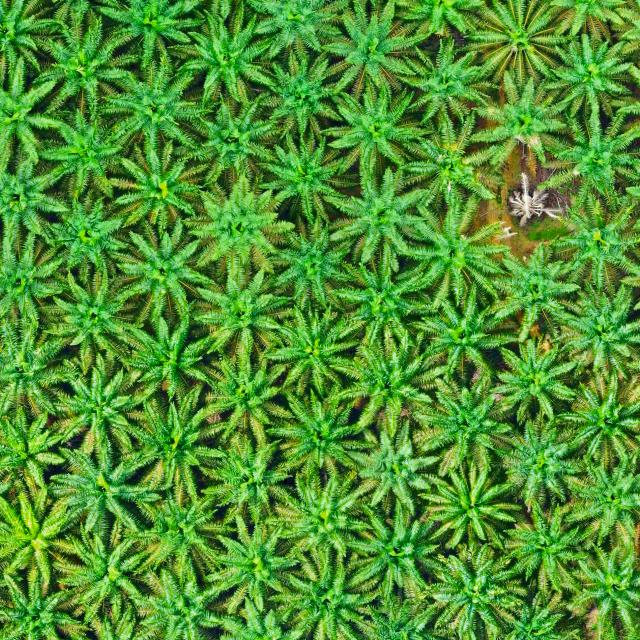Tree: (326, 324, 456, 436), (318, 165, 438, 274), (26, 6, 138, 121), (190, 254, 305, 366), (180, 174, 301, 279), (402, 204, 515, 316), (94, 50, 218, 150), (324, 83, 431, 197), (54, 522, 167, 629), (415, 537, 532, 640), (314, 0, 432, 101), (466, 66, 574, 176), (115, 217, 221, 329), (178, 6, 286, 114), (269, 465, 376, 574), (406, 368, 516, 474), (168, 88, 282, 190), (416, 287, 528, 388), (537, 99, 640, 208), (396, 111, 501, 217), (44, 269, 150, 374), (41, 439, 159, 533), (350, 503, 457, 606), (537, 29, 640, 135), (393, 33, 501, 134), (134, 387, 230, 500), (56, 358, 158, 462), (273, 547, 386, 640), (196, 347, 300, 447), (253, 49, 360, 146), (325, 254, 435, 348), (489, 238, 582, 349), (197, 428, 298, 529), (108, 138, 216, 232), (256, 130, 360, 227), (268, 388, 378, 479), (260, 306, 363, 402), (547, 188, 640, 294), (343, 418, 442, 517), (209, 522, 308, 620), (130, 549, 236, 640), (422, 461, 522, 557), (0, 479, 83, 594), (122, 305, 218, 403), (503, 502, 601, 598), (497, 412, 590, 513), (552, 282, 640, 388), (553, 369, 640, 473), (35, 101, 124, 200), (267, 214, 358, 309), (151, 487, 238, 584), (494, 334, 585, 426), (467, 0, 568, 82), (45, 186, 135, 277), (562, 445, 640, 549), (0, 148, 73, 256), (0, 49, 66, 168), (100, 0, 212, 70), (0, 318, 76, 420), (0, 228, 72, 330), (570, 538, 640, 640), (239, 0, 351, 61), (0, 570, 92, 640), (0, 404, 70, 488), (0, 0, 69, 78), (398, 0, 502, 41), (532, 0, 640, 39)
